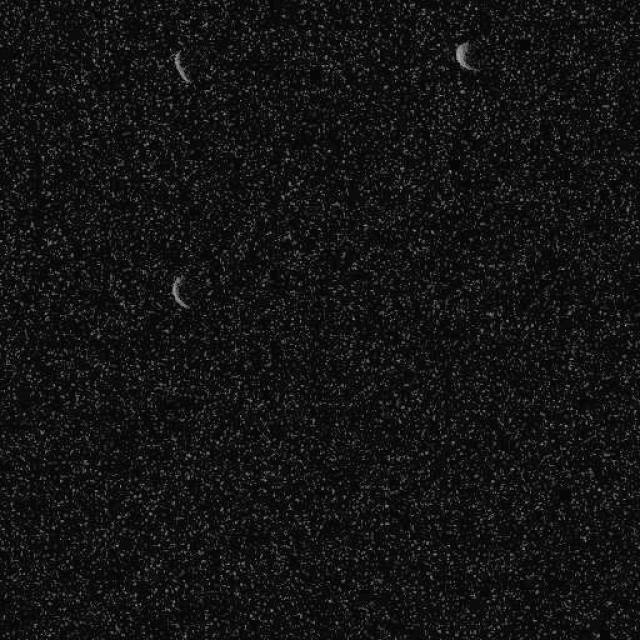D2: (454, 38, 481, 72), (169, 272, 191, 310), (170, 49, 192, 85)
